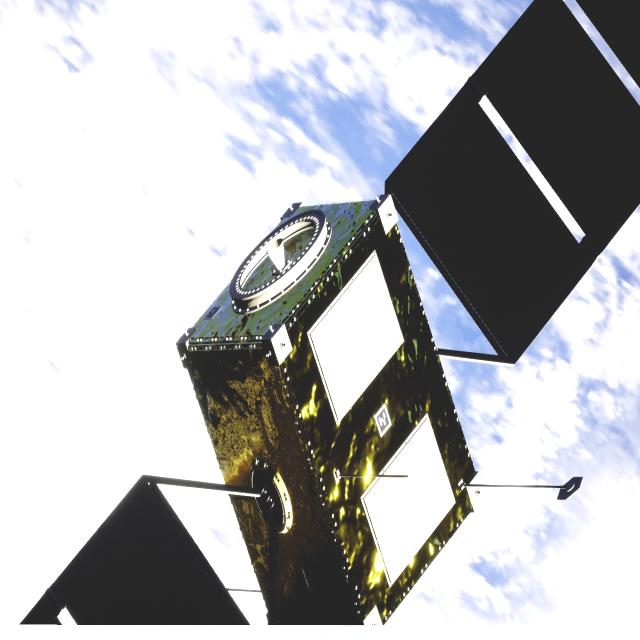medium_debris: (21, 0, 640, 629)
